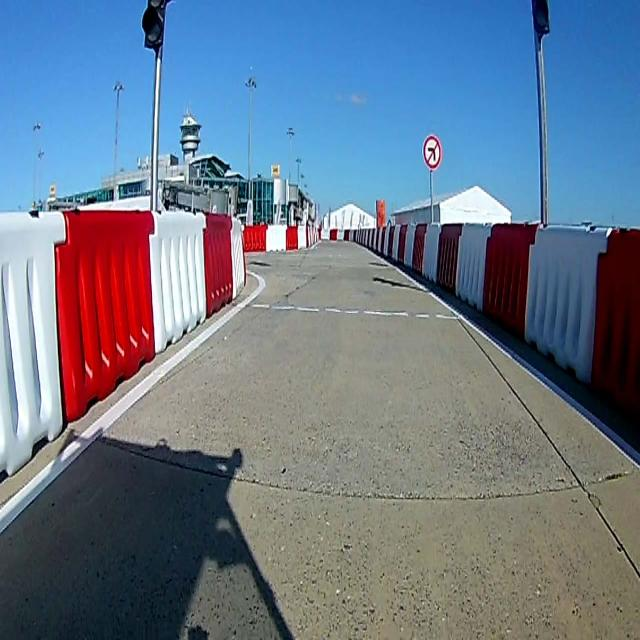soladonulmez: (424, 134, 442, 171)
